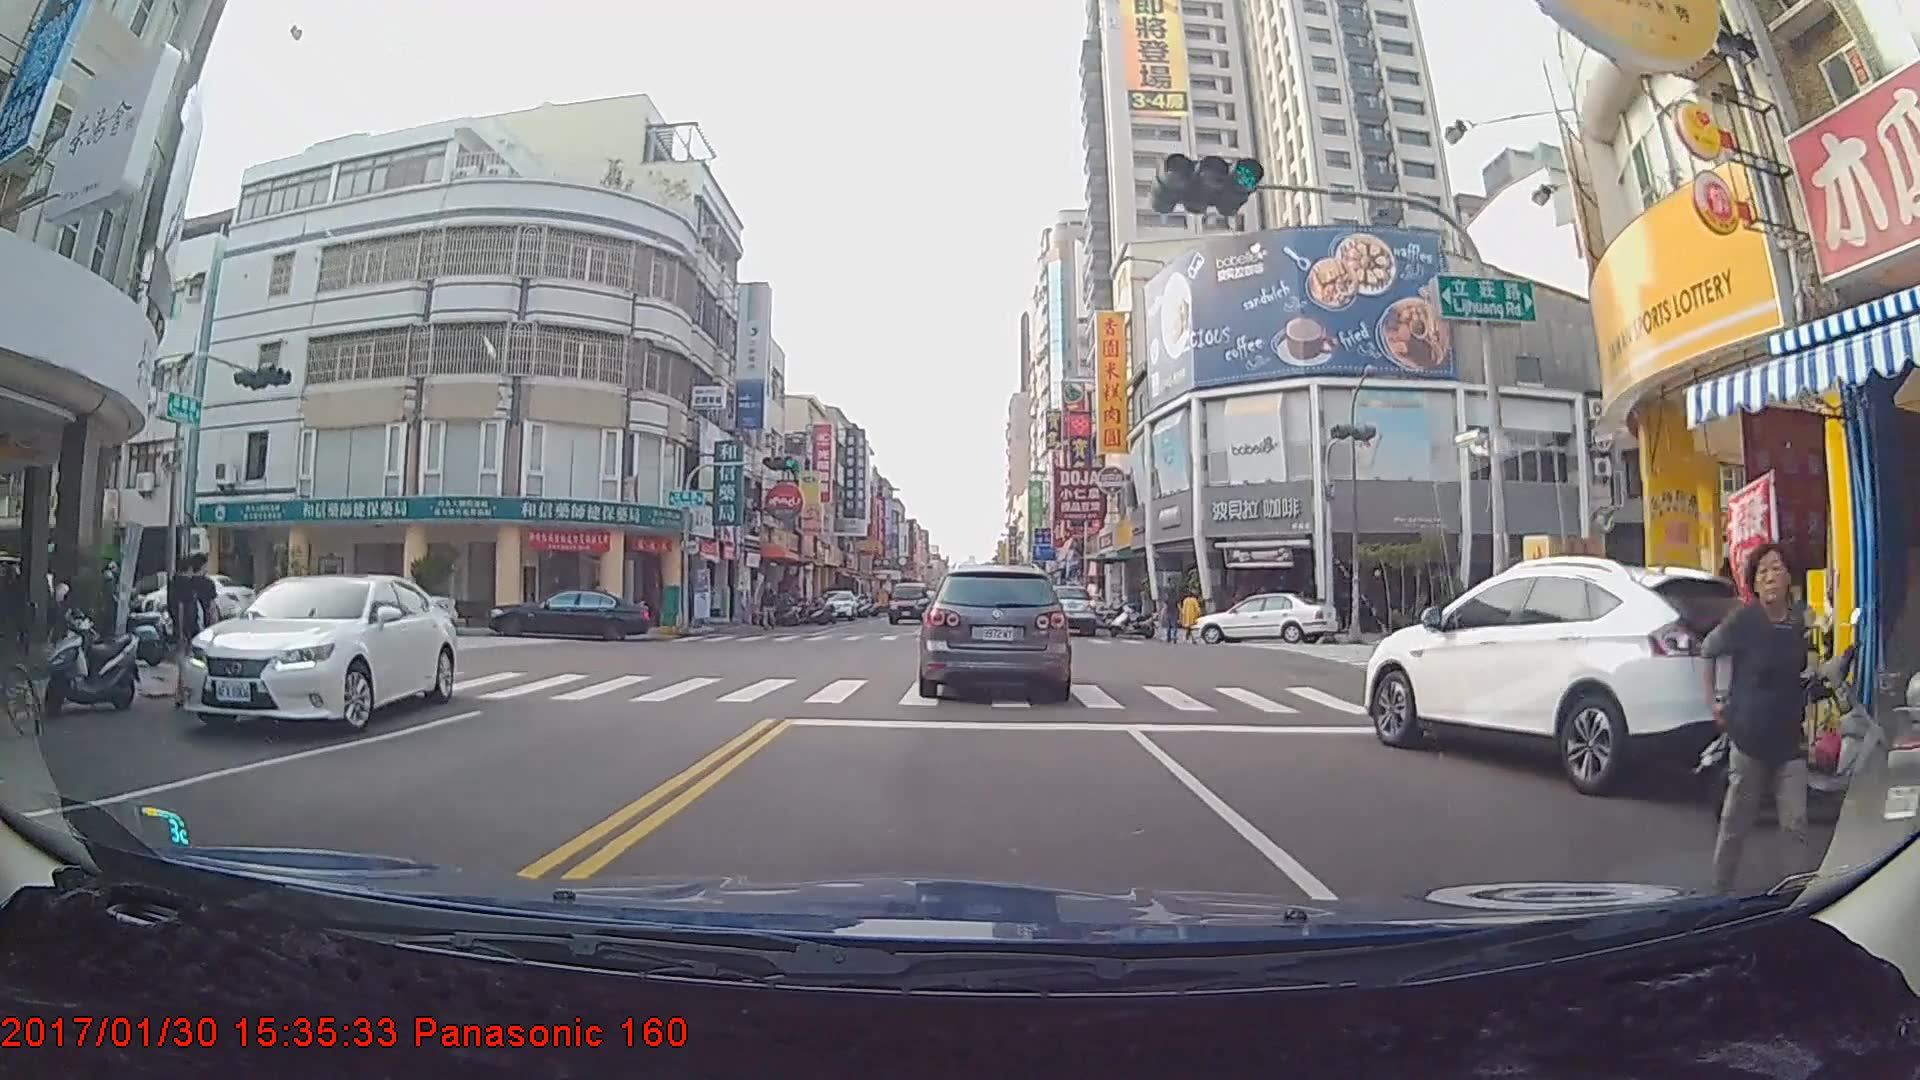pedestrian: (1702, 543, 1833, 913), (173, 553, 227, 709), (163, 558, 200, 698), (1181, 588, 1204, 646), (1164, 589, 1184, 647), (759, 581, 779, 633)
vehicle: (1364, 555, 1791, 802), (170, 571, 452, 735), (918, 563, 1071, 700), (485, 588, 650, 643), (1190, 589, 1336, 645), (1035, 582, 1097, 636), (887, 580, 930, 625), (815, 589, 858, 623)
